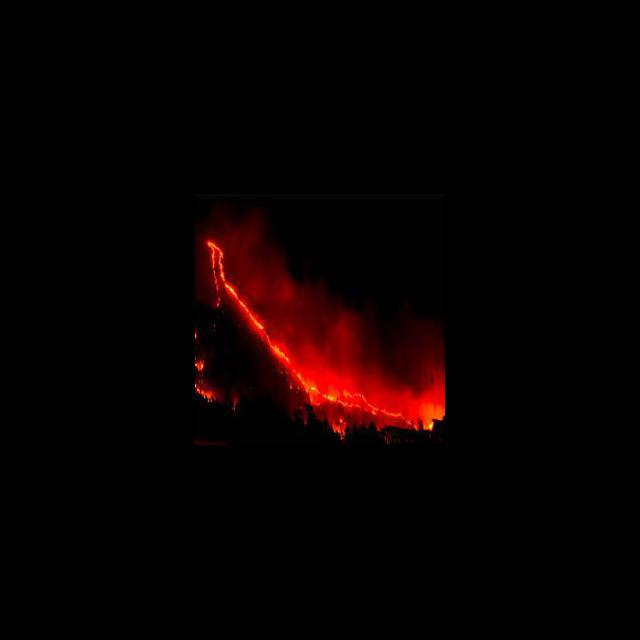Fire: (206, 239, 435, 432), (195, 379, 220, 402), (196, 360, 206, 370), (195, 330, 199, 340)
